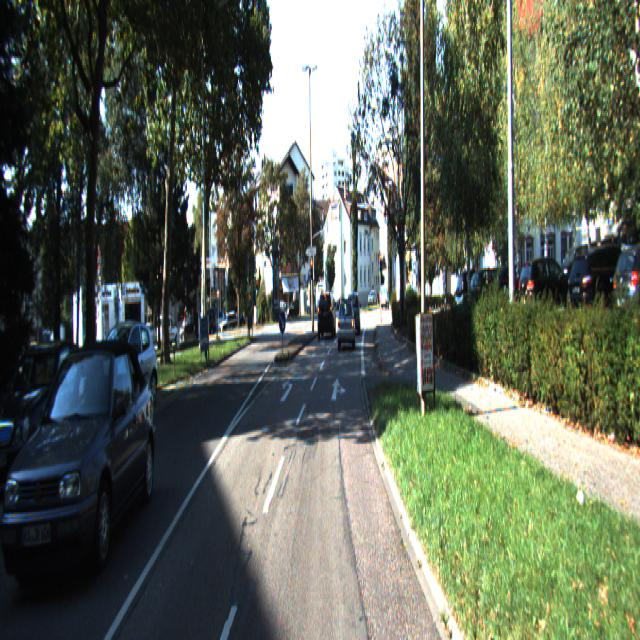Car: (8, 342, 157, 593), (0, 336, 100, 493), (87, 323, 159, 423), (338, 301, 355, 349), (318, 294, 336, 339), (347, 294, 361, 337)
